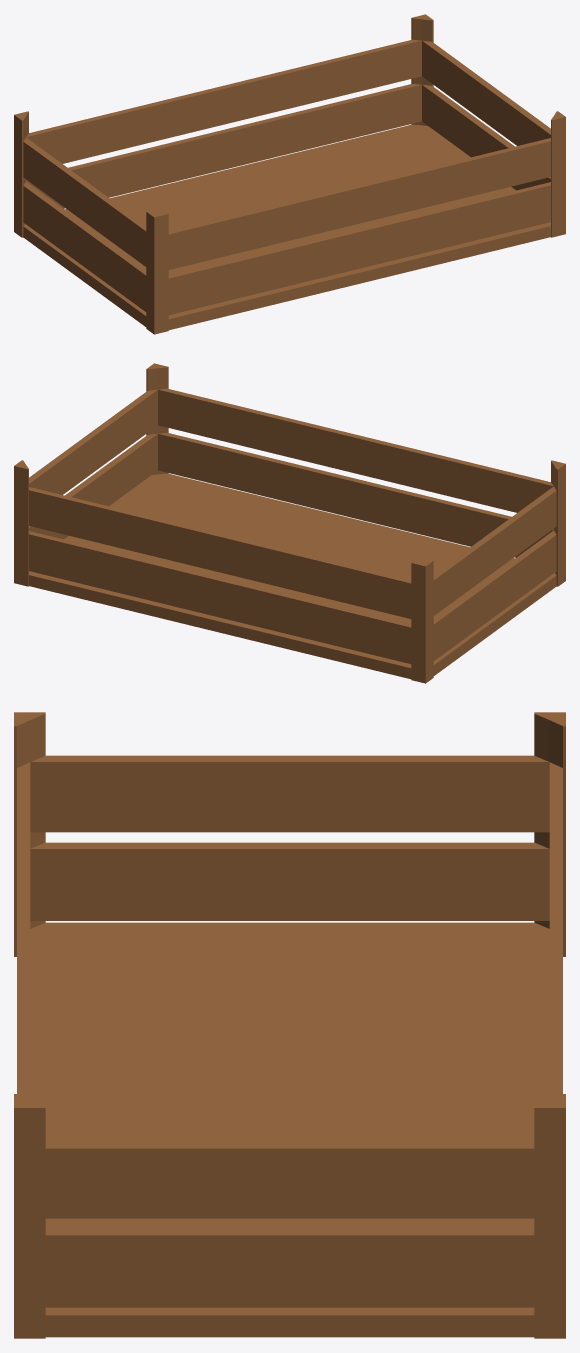
File: Crate2.fbx
The picture shows the model from 3 angles, top to bottom: view 1: azimuth 30°, elevation 25°; view 2: azimuth 150°, elevation 25°; view 3: azimuth 270°, elevation 25°; orthographic projection. The views are drawn at different scales.
Visible parts, largest first — view 1: Cube.200; view 2: Cube.200; view 3: Cube.200.
Boxes of the visible parts, box(x1,y1,x2,y2) form: Cube.200: box(14, 14, 565, 334); Cube.200: box(14, 363, 565, 683); Cube.200: box(14, 712, 565, 1338).
Size of the model in its own units: 333 by 90.53 by 196.
